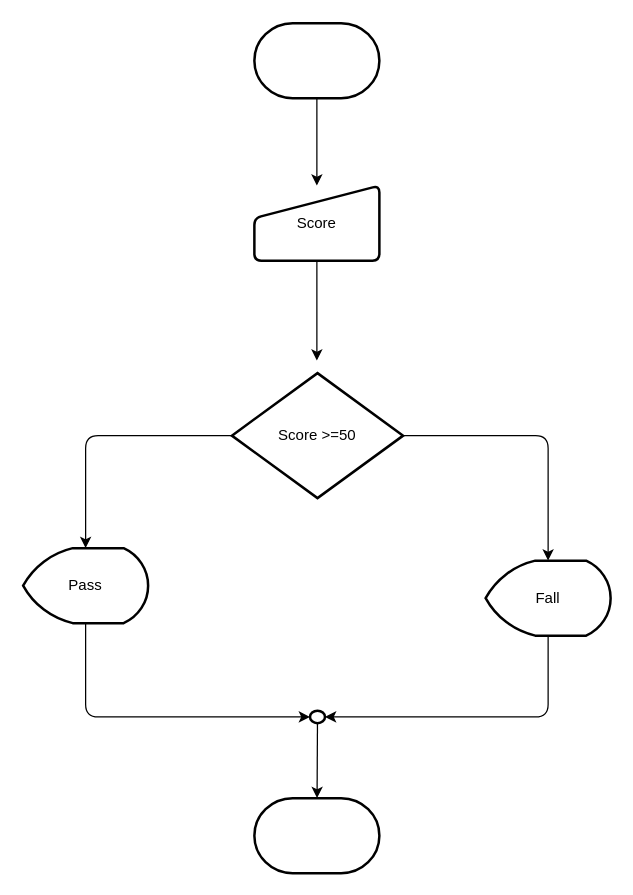
This 633x895 diagram has some shape labels left out. The centre of each missing label's shape, as x and y in pixels:
Begin: pixel 316 60
End: pixel 316 835
